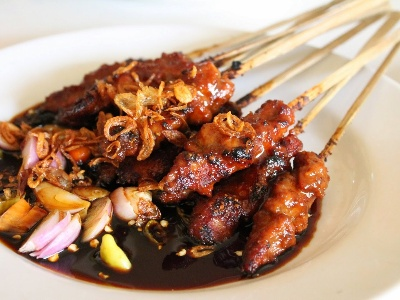sate: (100, 2, 387, 236)
